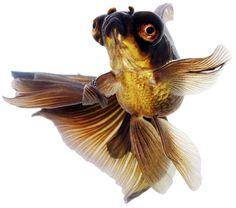goldfish: (65, 3, 227, 145)
